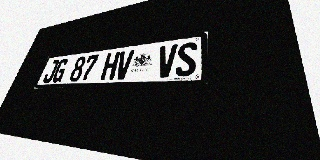7: (79, 54, 99, 81)
8: (68, 56, 87, 82)
G: (51, 58, 69, 83)
H: (100, 52, 120, 80)
J: (42, 59, 60, 83)
S: (175, 41, 197, 77)
V: (155, 44, 178, 78), (114, 50, 135, 80)
